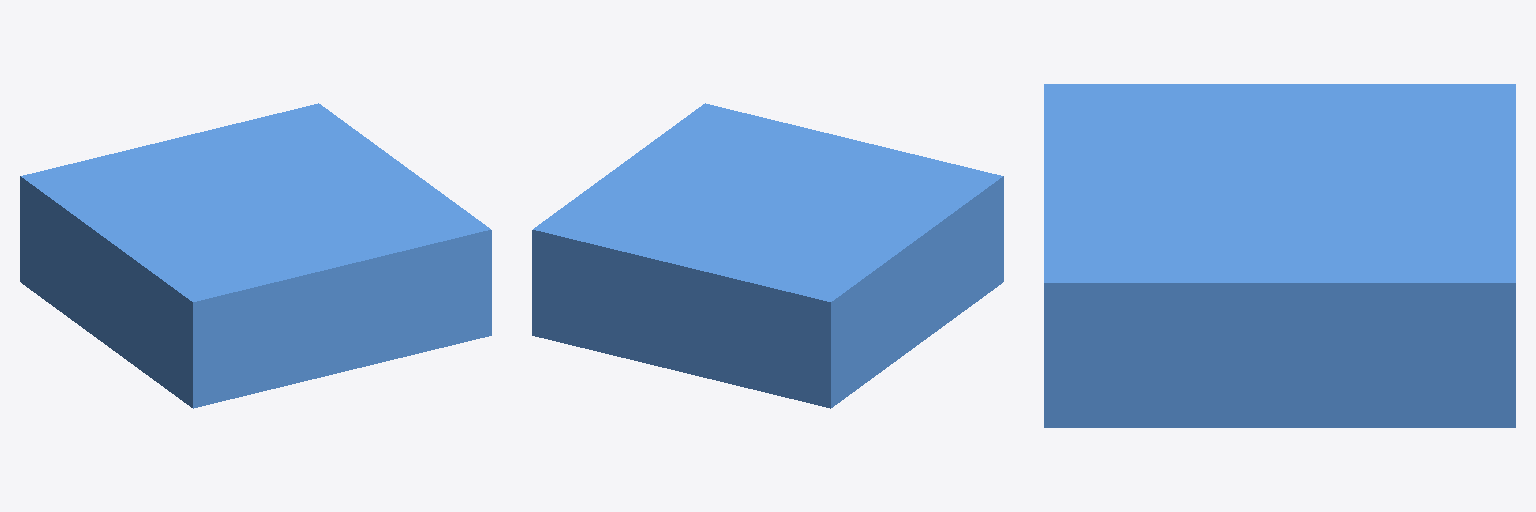
robot.urdf — tile:
<?xml version="1.0" ?>
<robot name="tile">
  <material name="color">
    <color rgba=".4667 .7098 .9961 1"/>
  </material>

  <link name="base_link">
    <contact>
      <lateral_friction value="1.0"/>
      <rolling_friction value="0.001"/>
      <spinning_friction value="0.001"/>
      <inertia_scaling value="1.0"/>
    </contact>

    <inertial>
      <origin rpy="0 0 0" xyz=".05 .05 .025"/>
       <mass value="0.5"/>
       <inertia ixx="1" ixy="0" ixz="0" iyy="1" iyz="0" izz="1"/>
    </inertial>

    <collision>
      <origin rpy="0 0 0" xyz="0 0 0"/>
      <geometry>
        <box size=".15 .15 .051"/>
      </geometry>
    </collision>

    <visual>
      <origin rpy="0 0 0" xyz="0 0 0"/>
      <geometry>
        <box size=".15 .15 .051"/>
      </geometry>
      <material name="color"/>
    </visual>

  </link>
</robot>

--- Facts derived from the render (not from the file) ---
The picture shows the robot from 3 angles, left to right: view 1: azimuth 30°, elevation 25°; view 2: azimuth 150°, elevation 25°; view 3: azimuth 270°, elevation 25°; orthographic projection.
Model tile with 1 links and 0 joints (none), rooted at base_link, posed all joints at 0.
Visible links, largest first — view 1: base_link; view 2: base_link; view 3: base_link.
Boxes of the visible links, left/top/right/bottom form: base_link: left=20, top=103, right=491, bottom=408; base_link: left=532, top=103, right=1003, bottom=408; base_link: left=1044, top=84, right=1515, bottom=427.
Size in the robot's own frame: 0.15 by 0.15 by 0.051 metres.
Geometry: primitives only (box / cylinder / sphere), no mesh files.